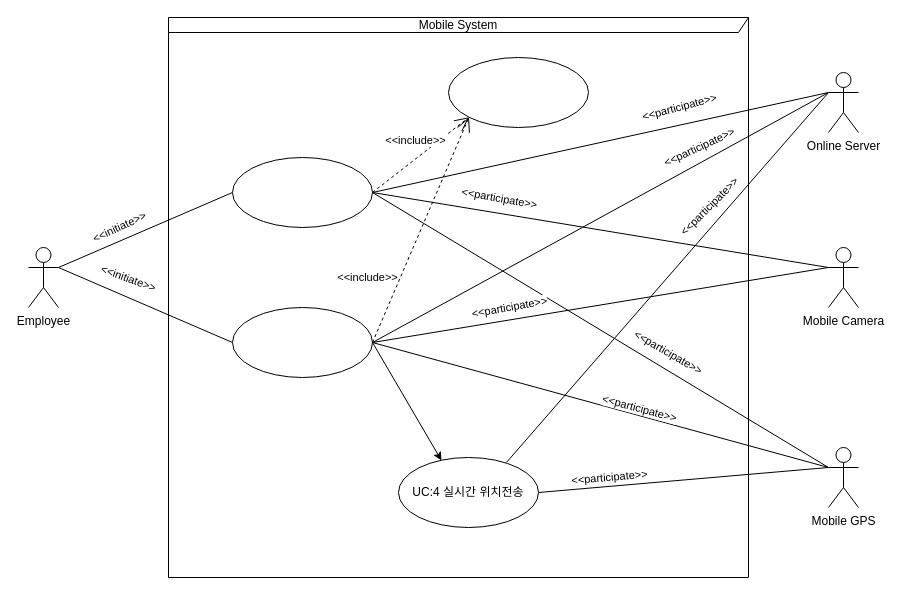
This 901x595 diagram has some shape labels left out. Each missing label, with the centre of its shape:
"UC-1: 로그인" belongs at point (518, 92).
"UC-2: 출근인증" belongs at point (302, 342).
"UC3: 퇴근인증" belongs at point (302, 192).
